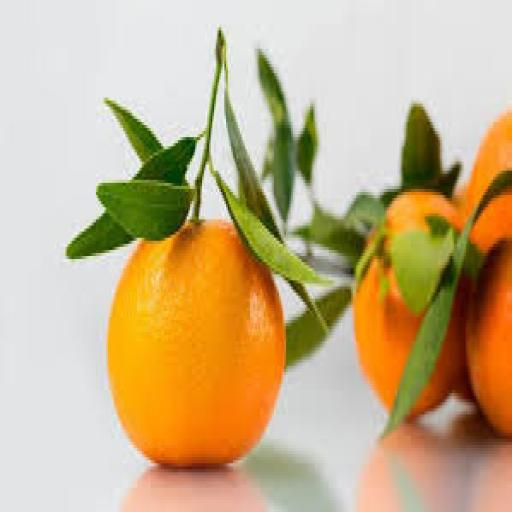orange: (108, 220, 285, 466), (353, 260, 422, 408), (466, 241, 511, 435), (357, 424, 457, 511), (122, 467, 268, 511), (466, 110, 511, 213), (454, 366, 476, 405)
